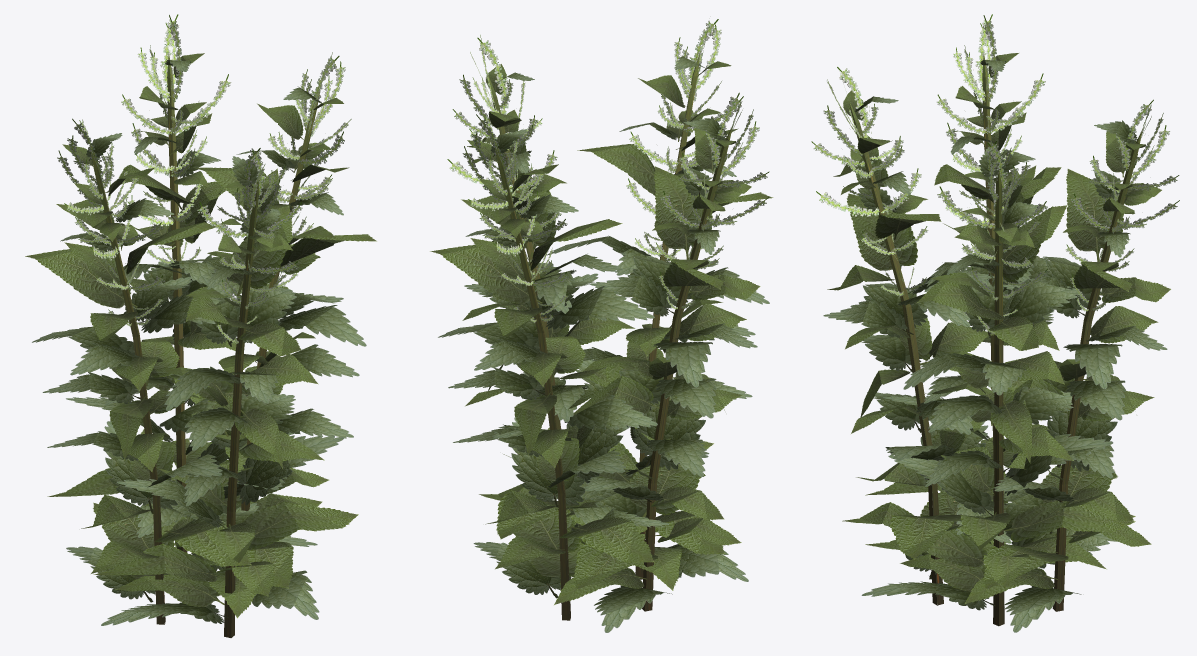
Rendered from tree_i.FBX.
3 views of the same model, side by side, from view 1: azimuth 30°, elevation 25°; view 2: azimuth 150°, elevation 25°; view 3: azimuth 270°, elevation 25° (orthographic).
Visible parts, largest first — view 1: tree_i; view 2: tree_i; view 3: tree_i.
Part boxes in pixels (<box>): tree_i: <box>25,14,376,637</box>; tree_i: <box>430,19,773,632</box>; tree_i: <box>811,14,1179,632</box>.
Size of the model in its own units: 1.16 by 1.87 by 1.2.
1 material, 1 textured.
